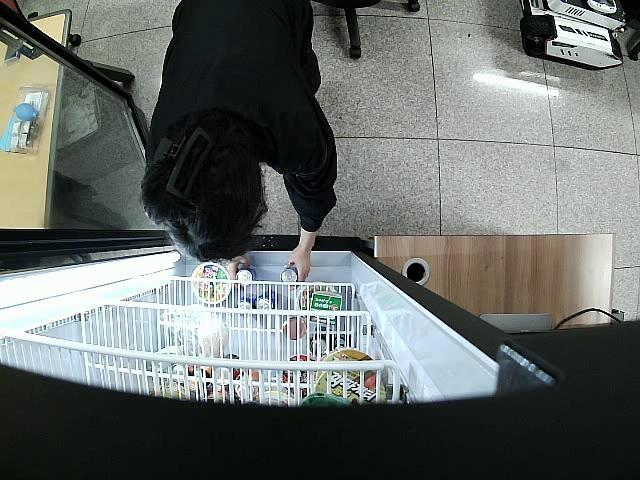00_hand: (283, 242, 311, 291)
15_letsbe: (234, 267, 257, 289), (281, 268, 297, 287)
